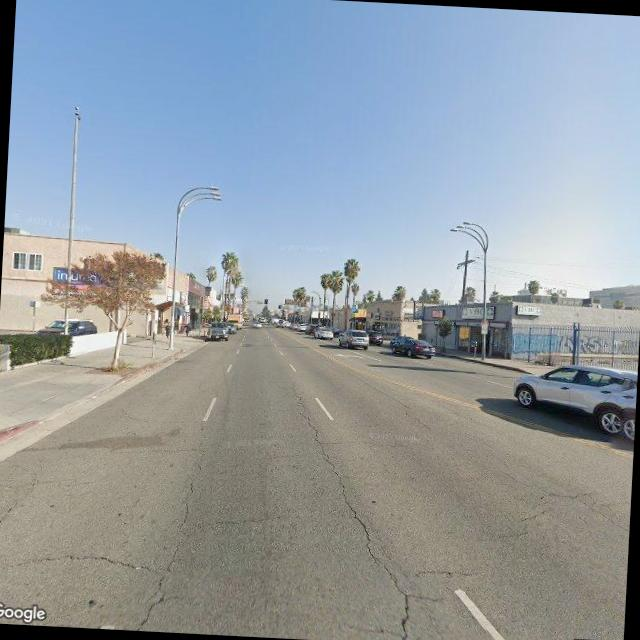crack: (275, 388, 442, 640), (128, 442, 204, 632), (488, 462, 632, 542), (0, 541, 158, 582), (346, 371, 436, 429), (0, 460, 43, 535), (207, 508, 289, 532)
